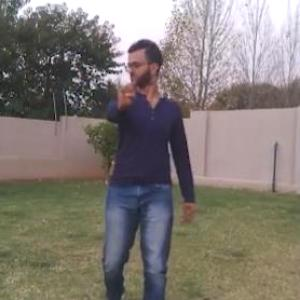takeoff-hand: (109, 69, 139, 109)
